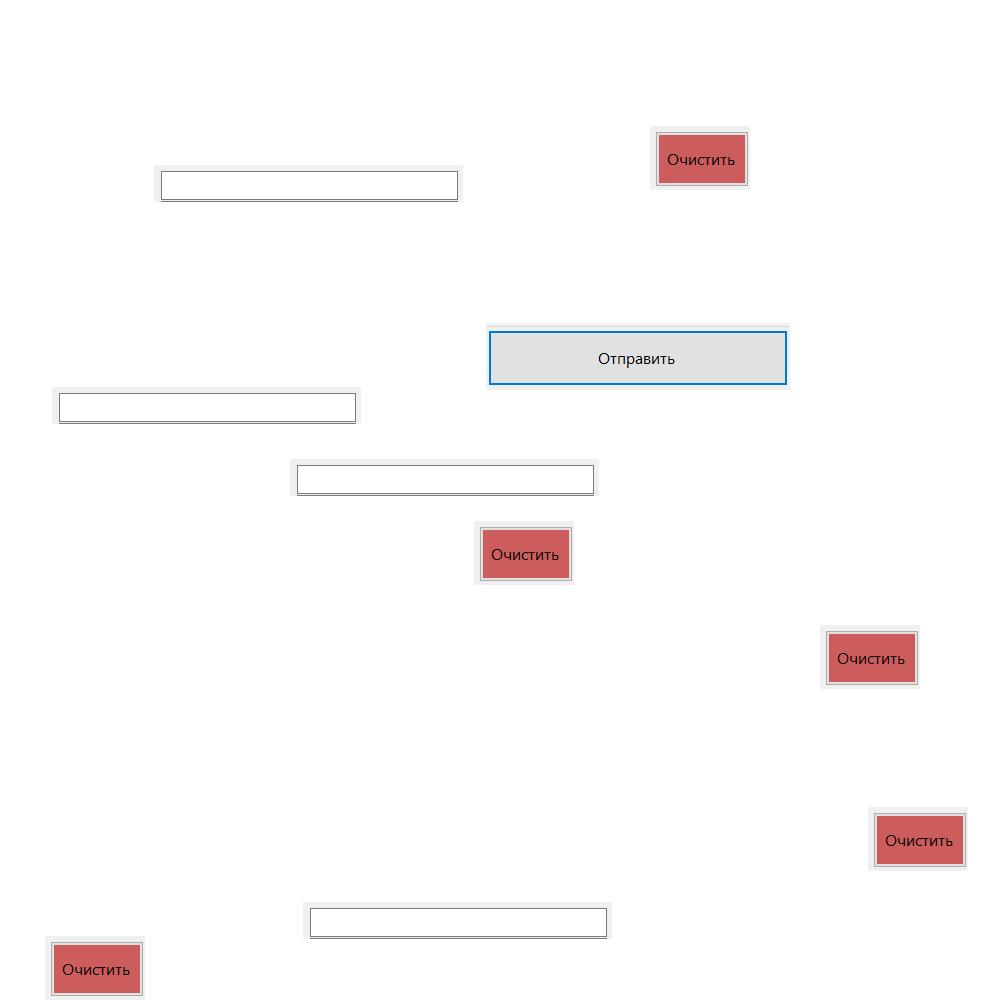Button: (486, 323, 790, 390), (820, 625, 920, 689), (868, 807, 968, 871), (650, 126, 750, 190), (474, 521, 574, 585), (45, 936, 145, 1000)
EditText-: (154, 165, 463, 202), (303, 902, 612, 939), (290, 459, 599, 496), (52, 387, 361, 424)
